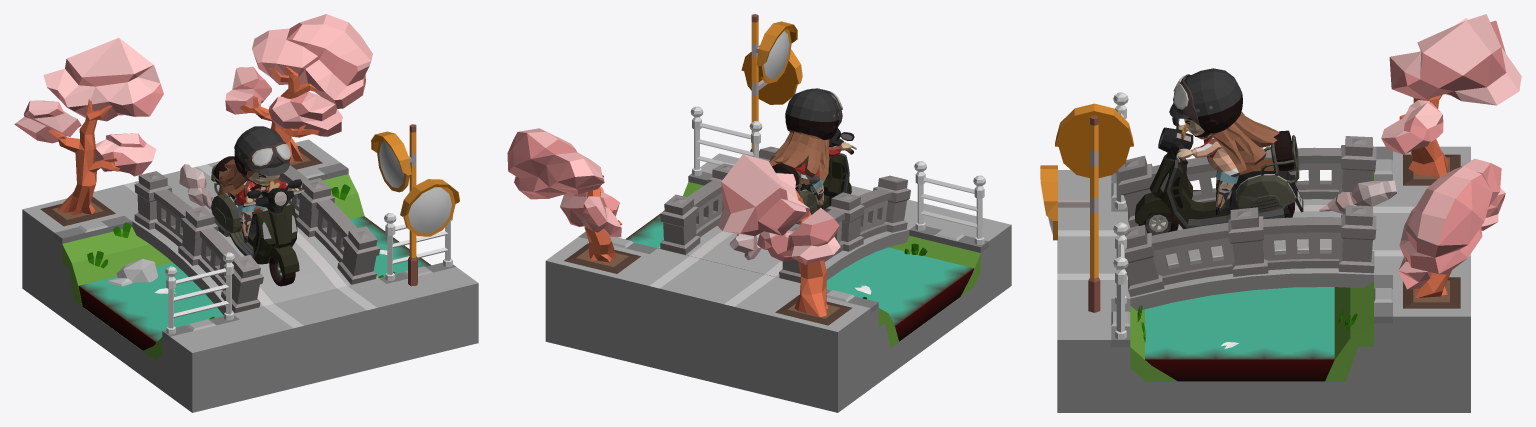
Rendered from 0063_karin_late.fbx.
3 views of the same model, side by side, from view 1: azimuth 30°, elevation 25°; view 2: azimuth 150°, elevation 25°; view 3: azimuth 270°, elevation 25° (orthographic). The views are drawn at different scales.
Visible parts, largest first — view 1: Plate, BalustradeA (×5), [water], LeavesB_02, LeavesA_02, Bridge, Balustrade_B (×4), Handrail (×2), TrunkA, Scooter_Front, LeavesB_03, glass (×2) (+14 smaller); view 2: Plate, [water], LeavesA_02, LeavesB_02, BalustradeA (×3), Bridge, Handrail (×2), ConvexMirror (×2), Balustrade_B (×2), Helmet (×2), LeavesA_01, Karin_A_Head (+9 smaller); view 3: Plate, [water], Balustrade_B (×4), BalustradeA (×5), LeavesA_02, LeavesB_02, Bridge, ConvexMirror (×2), Scooter_Front, Helmet, Scooter_Rear01, LeavesA_03 (+14 smaller).
Boxes of the visible parts, x1,y1,x2,y2 form: Plate: (22,139,478,412); BalustradeA (×5): (134,171,380,313); [water]: (78,216,430,350); LeavesB_02: (252,14,372,108); LeavesA_02: (43,38,163,121); Bridge: (132,205,378,315); Balustrade_B (×4): (154,165,357,290); Handrail (×2): (165,213,452,334); TrunkA: (48,99,119,215); Scooter_Front: (236,204,299,274); LeavesB_03: (268,92,342,136); glass (×2): (379,140,452,232); Plate: (545,153,1011,412); [water]: (625,214,974,341); LeavesA_02: (717,154,809,236); LeavesB_02: (507,128,604,199); BalustradeA (×3): (660,175,910,254); Bridge: (658,225,909,283); Handrail (×2): (690,106,985,244); ConvexMirror (×2): (741,21,802,104); Balustrade_B (×2): (687,180,891,239); Helmet (×2): (785,89,839,146); LeavesA_01: (786,208,840,264); Karin_A_Head: (769,130,829,181); Plate: (1057,146,1470,412); [water]: (1145,190,1334,381); Balustrade_B (×4): (1151,147,1342,285); BalustradeA (×5): (1118,136,1376,296); LeavesA_02: (1389,14,1521,105); LeavesB_02: (1400,158,1501,274); Bridge: (1130,199,1373,311); ConvexMirror (×2): (1040,103,1133,240); Scooter_Front: (1135,154,1226,229); Helmet: (1169,68,1242,137); Scooter_Rear01: (1225,159,1303,222); LeavesA_03: (1381,100,1443,154).
Bounding box in the file's own units: 8.91 × 5.71 × 8.94.
